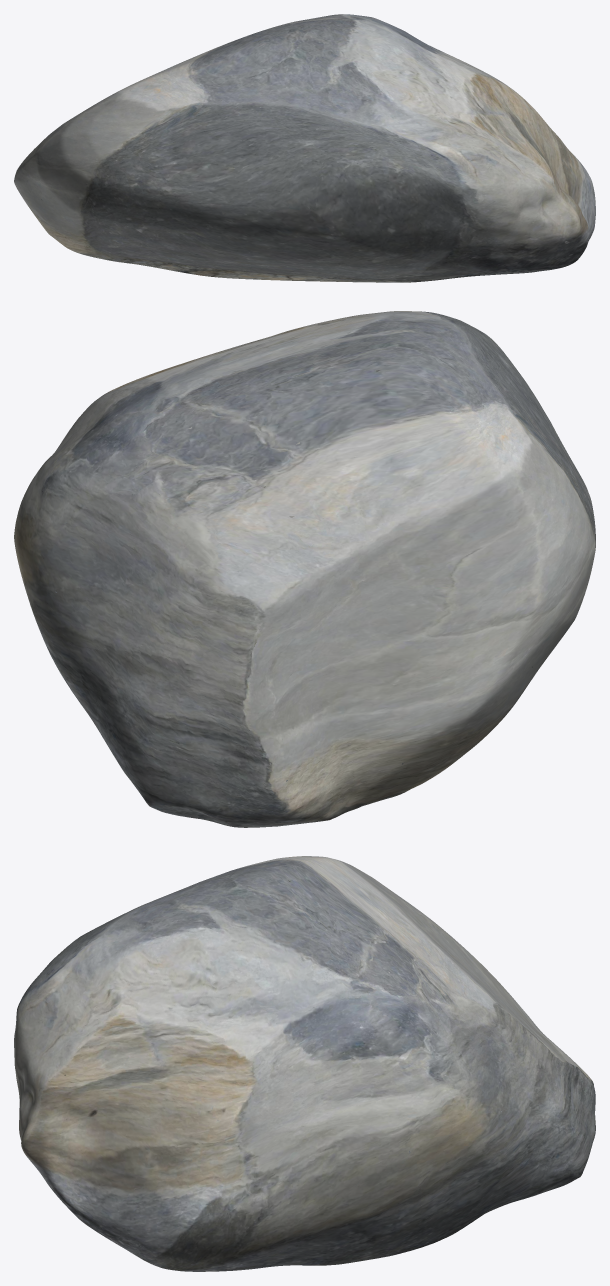
The model's file is GrayRock3.fbx.
The picture shows the model from 3 angles, top to bottom: view 1: azimuth 30°, elevation 25°; view 2: azimuth 150°, elevation 25°; view 3: azimuth 270°, elevation 25°; orthographic projection. The views are drawn at different scales.
Parts seen in each view (by area): view 1: Mesh_0.007; view 2: Mesh_0.007; view 3: Mesh_0.007.
Part boxes in pixels (box(x1,y1,x2,y2)): Mesh_0.007: box(14, 14, 595, 282); Mesh_0.007: box(14, 311, 595, 827); Mesh_0.007: box(14, 856, 595, 1271).
Size of the model in its own units: 177 by 101 by 176.
1 material, 1 textured.
